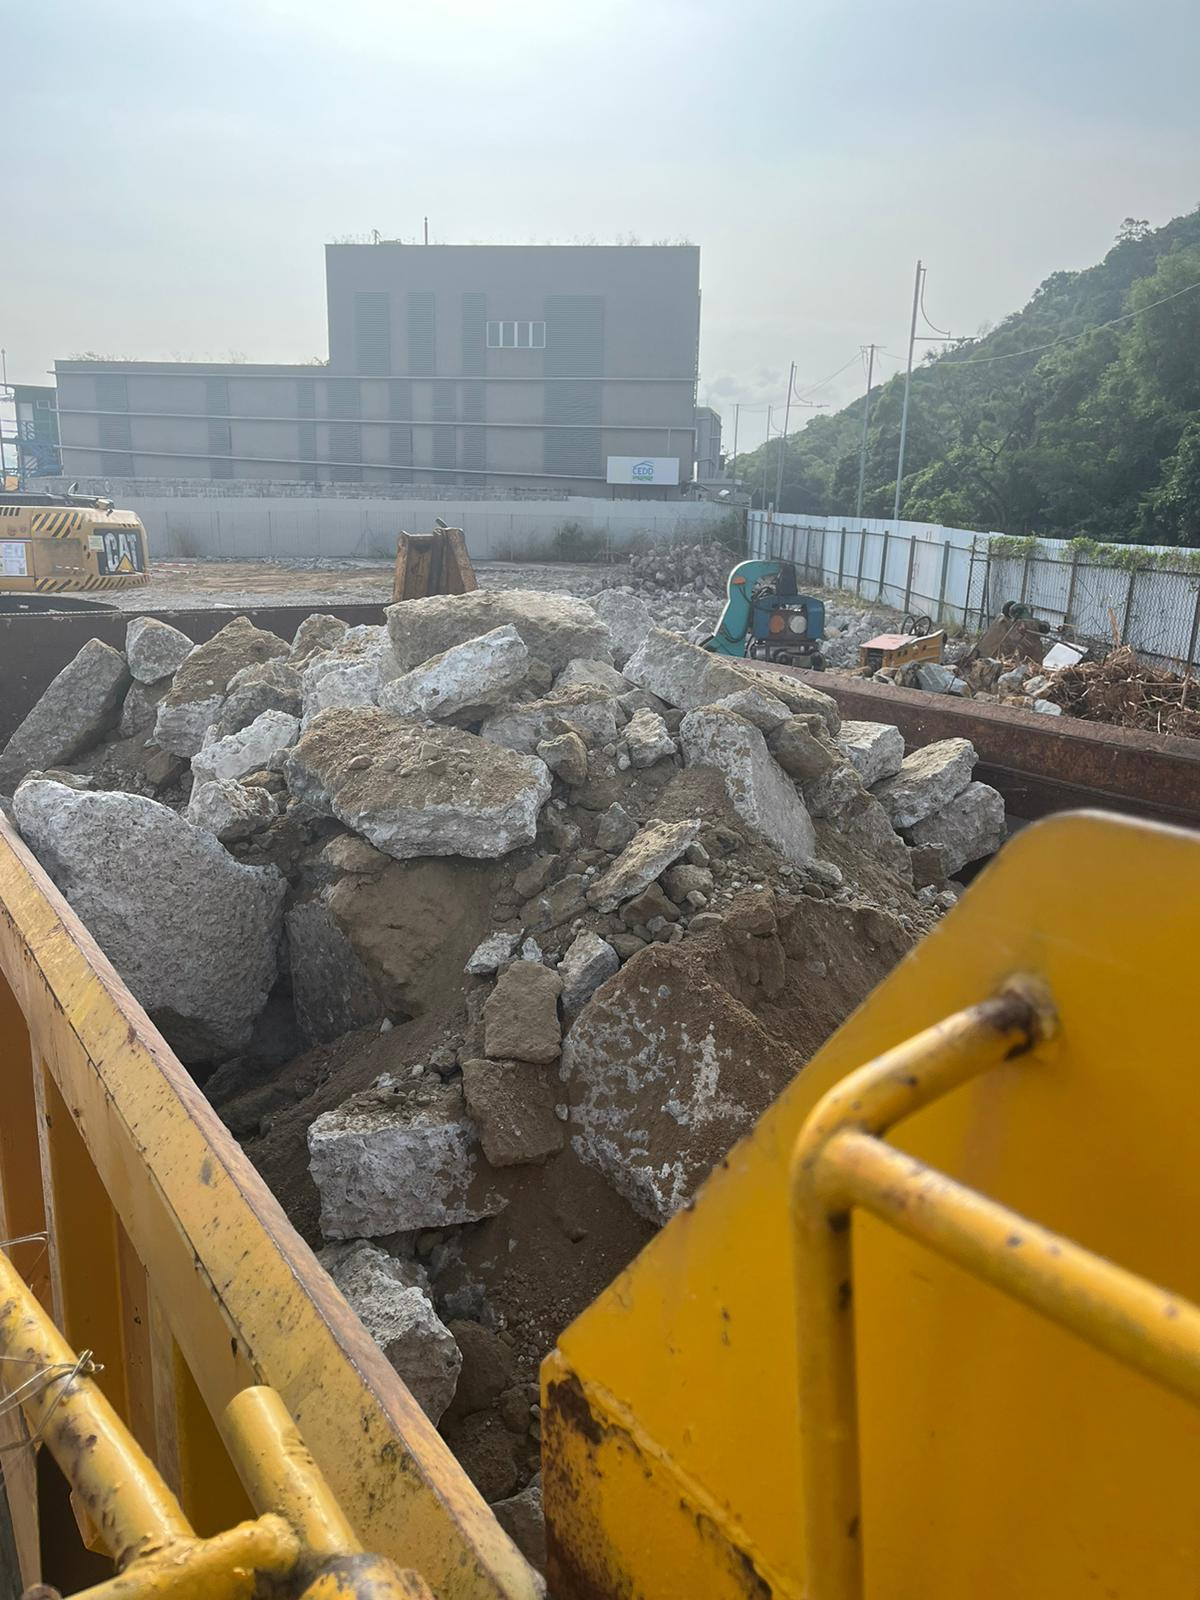dry: (8, 612, 1000, 1418)
